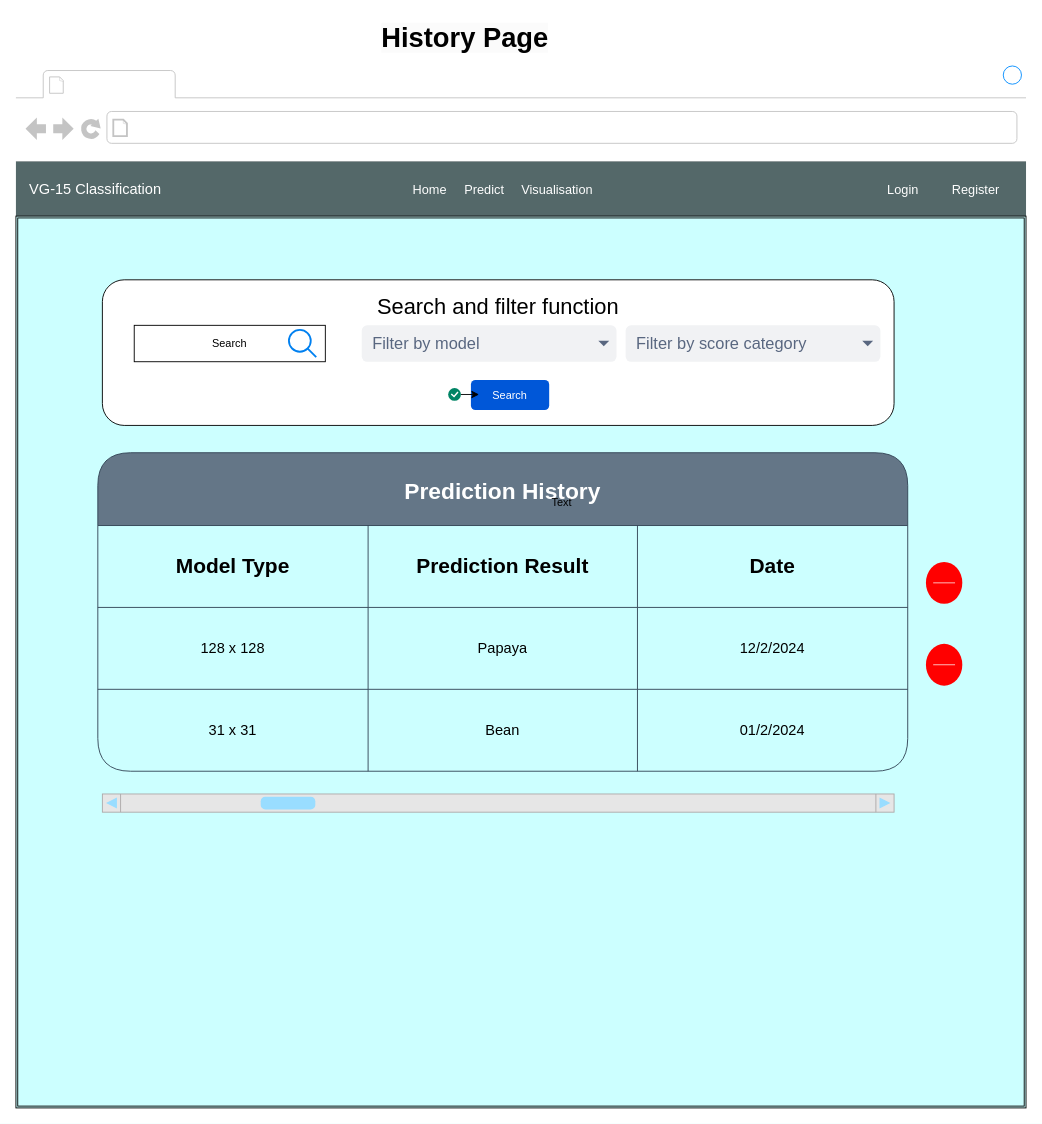
Image size: 1042x1124. Some labels were removed from this diagram. Here are the shapes that lost their labels. From the top down, the centre of each, then its label:
the point at 152,83: History
the point at 247,127: https://history
